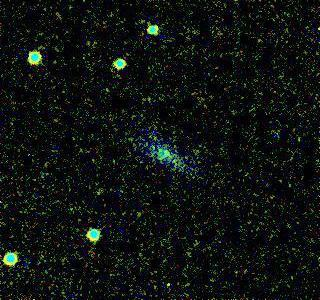star: (85, 179, 115, 209)
